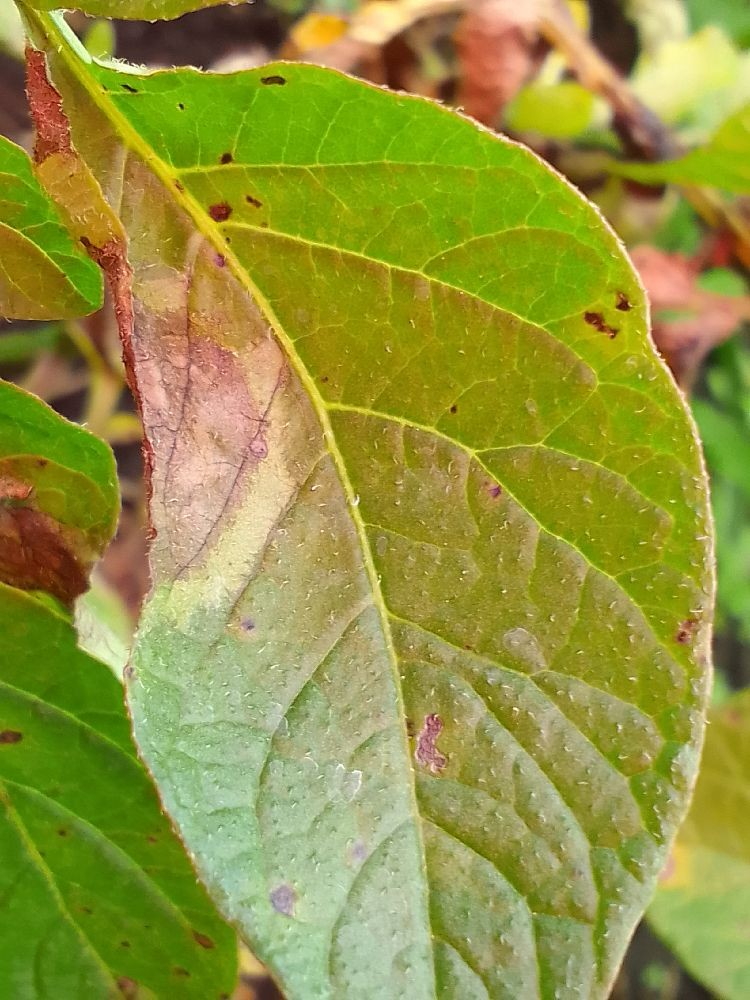late_blight: (0, 0, 750, 487), (603, 391, 750, 941), (586, 903, 737, 1000), (177, 917, 305, 999)
